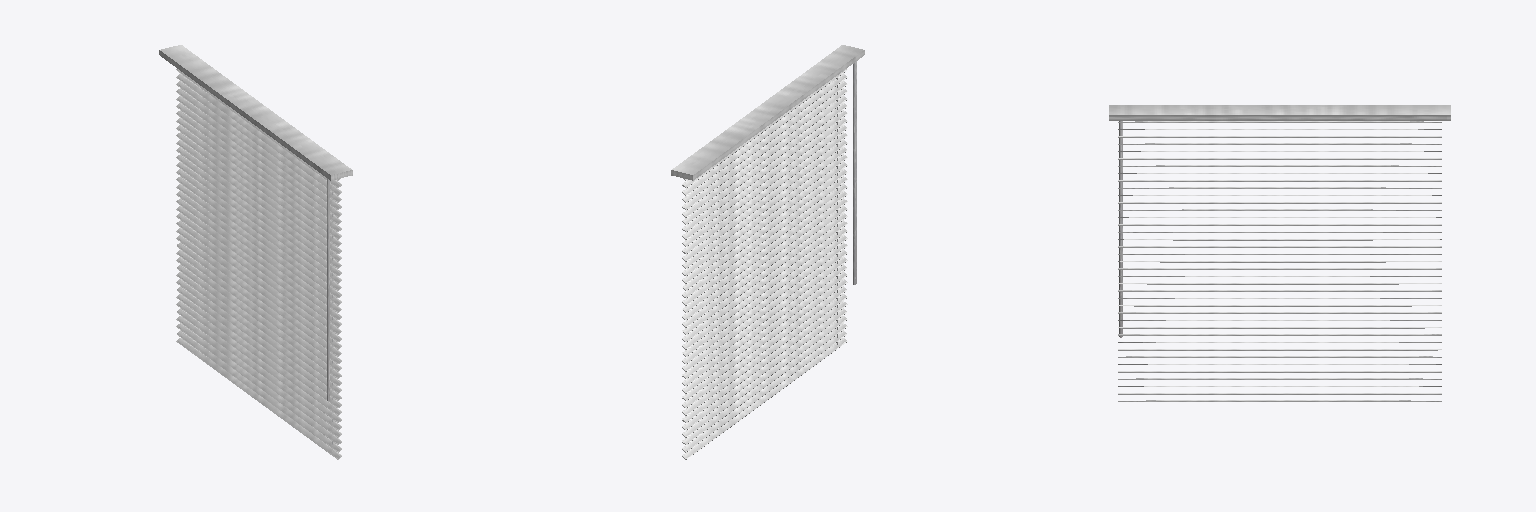
3 views of the same model, side by side, from view 1: azimuth 30°, elevation 25°; view 2: azimuth 150°, elevation 25°; view 3: azimuth 270°, elevation 25° (orthographic).
Visible parts, largest first — view 1: Cube_Cube.001, Cube.001_Cube.002, Cylinder.003; view 2: Cube_Cube.001, Cube.001_Cube.002, Cylinder.003; view 3: Cube_Cube.001, Cube.001_Cube.002, Cylinder.003.
Boxes of the visible parts, <box> form: Cube_Cube.001: <box>176,69,341,459</box>; Cube.001_Cube.002: <box>159,45,352,180</box>; Cylinder.003: <box>327,178,329,400</box>; Cube_Cube.001: <box>682,69,847,459</box>; Cube.001_Cube.002: <box>671,45,864,180</box>; Cylinder.003: <box>853,61,856,284</box>; Cube_Cube.001: <box>1118,121,1441,401</box>; Cube.001_Cube.002: <box>1109,105,1450,120</box>; Cylinder.003: <box>1119,121,1122,337</box>.
Size of the model in its own units: 0.58 by 7.41 by 7.88.
3 materials, 3 textured.